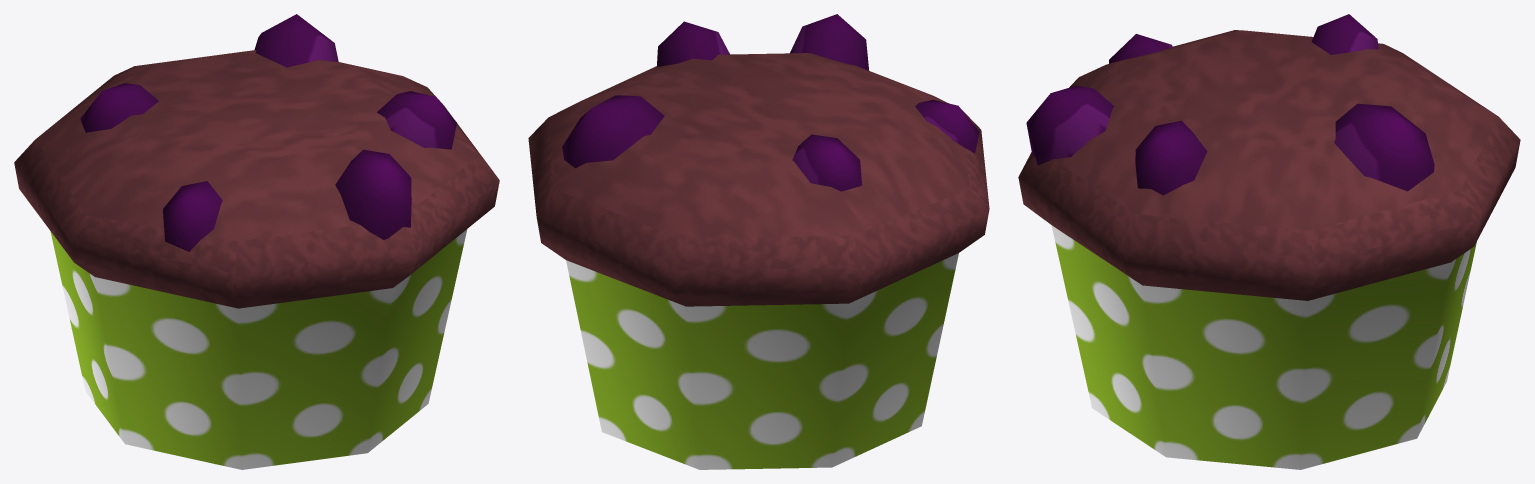
The model's file is Muffin_C_01.FBX.
3 views of the same model, side by side, from view 1: azimuth 30°, elevation 25°; view 2: azimuth 150°, elevation 25°; view 3: azimuth 270°, elevation 25° (orthographic). The views are drawn at different scales.
Visible parts, largest first — view 1: Muffin; view 2: Muffin; view 3: Muffin.
Part boxes in pixels (bbox=[...]): Muffin: bbox=[14, 14, 499, 469]; Muffin: bbox=[528, 14, 989, 469]; Muffin: bbox=[1018, 14, 1520, 469].
Size of the model in its own units: 36.61 by 26.52 by 36.61.
